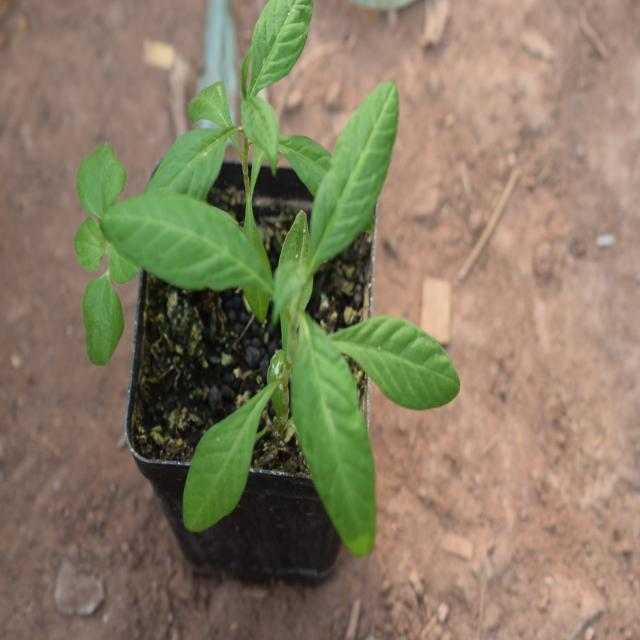white_smart_weed: (122, 99, 474, 558)
